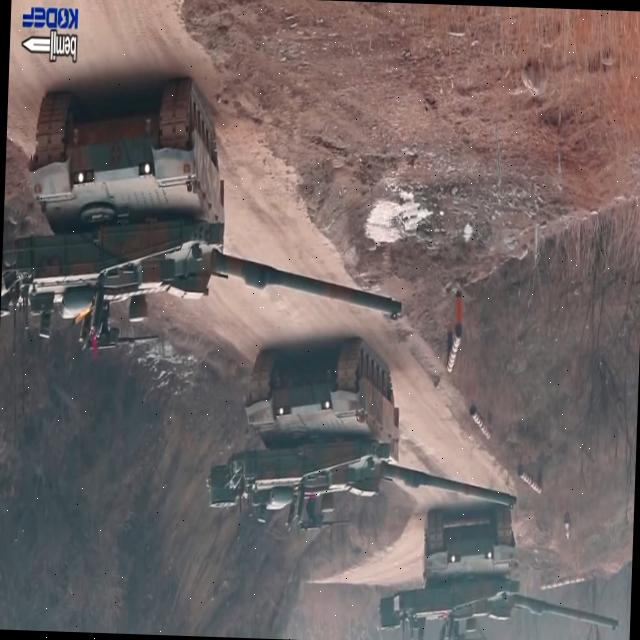korea tank: (0, 71, 412, 367)
